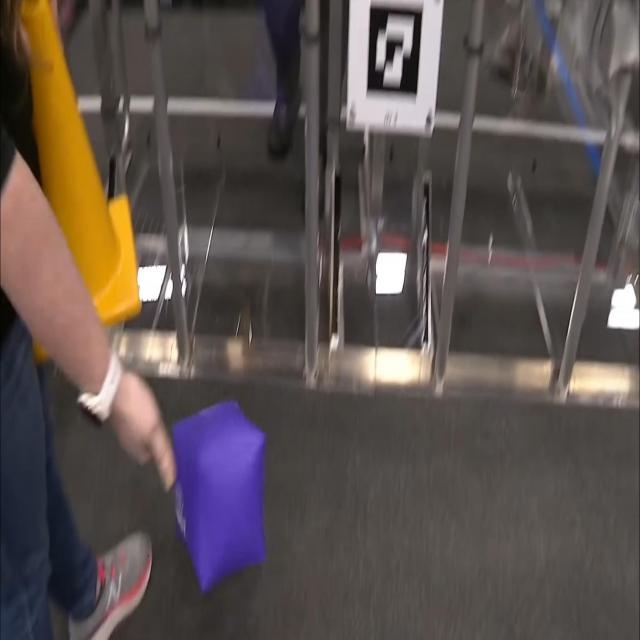frc_cone: (9, 0, 144, 358)
frc_cube: (170, 395, 267, 586)
